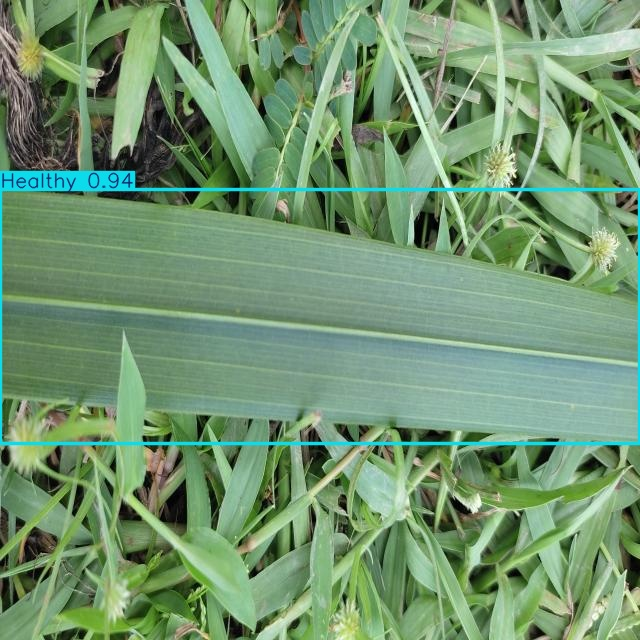Healthy: (0, 189, 640, 444)
